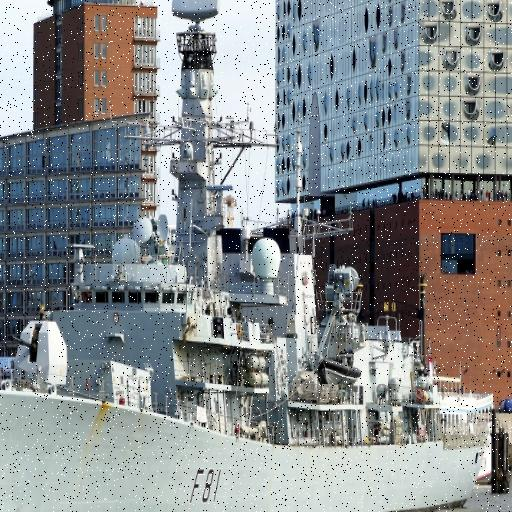Fragata: (1, 1, 498, 512)
